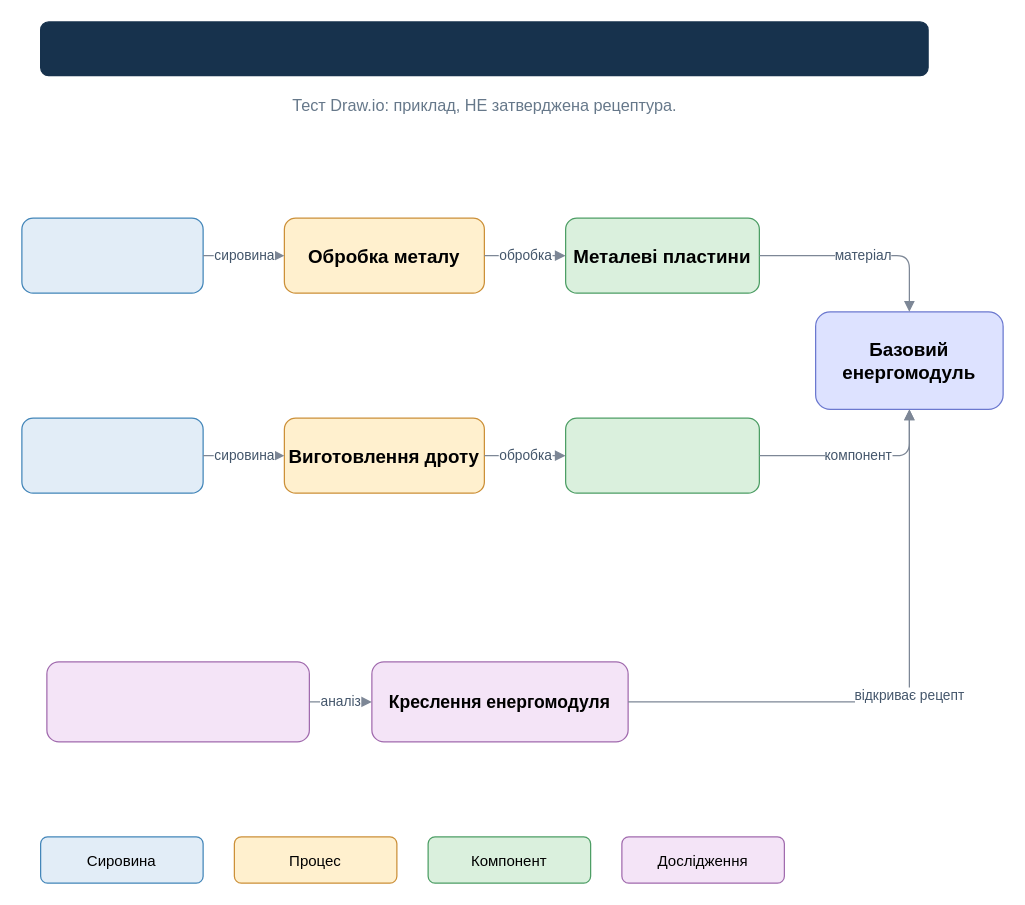
This 1025x905 diagram has some shape labels left out. The centre of each missing label's shape, as x and y in pixels:
"ДЕМОНСТРАЦІЙНИЙ ГРАФ КРАФТУ — InTheDeep" goes at (x=483, y=48).
"Металобрухт" goes at (x=112, y=255).
"Мідна сировина" goes at (x=112, y=455).
"Мідний провід" goes at (x=661, y=455).
"Сканування знайденої електроніки" goes at (x=177, y=701).
